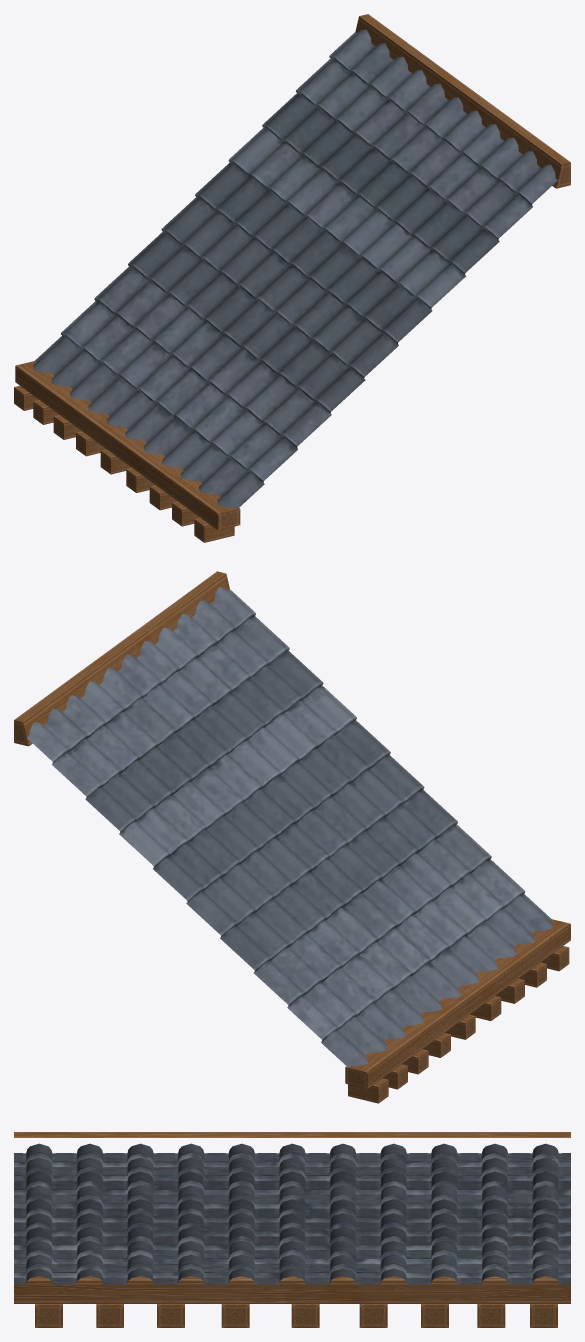
File: SM_Roof_02_rslate.glb
3 views of the same model, one above another, from view 1: azimuth 30°, elevation 25°; view 2: azimuth 150°, elevation 25°; view 3: azimuth 270°, elevation 25° (orthographic). The views are drawn at different scales.
Visible parts, largest first — view 1: SM_Roof_02; view 2: SM_Roof_02; view 3: SM_Roof_02.
Part boxes in pixels (bbox=[...]): SM_Roof_02: bbox=[14, 14, 570, 542]; SM_Roof_02: bbox=[14, 571, 570, 1103]; SM_Roof_02: bbox=[14, 1132, 570, 1327].
Size of the model in its own units: 4.09 by 3.25 by 4.
Materials: 2 (2 with a texture image).
